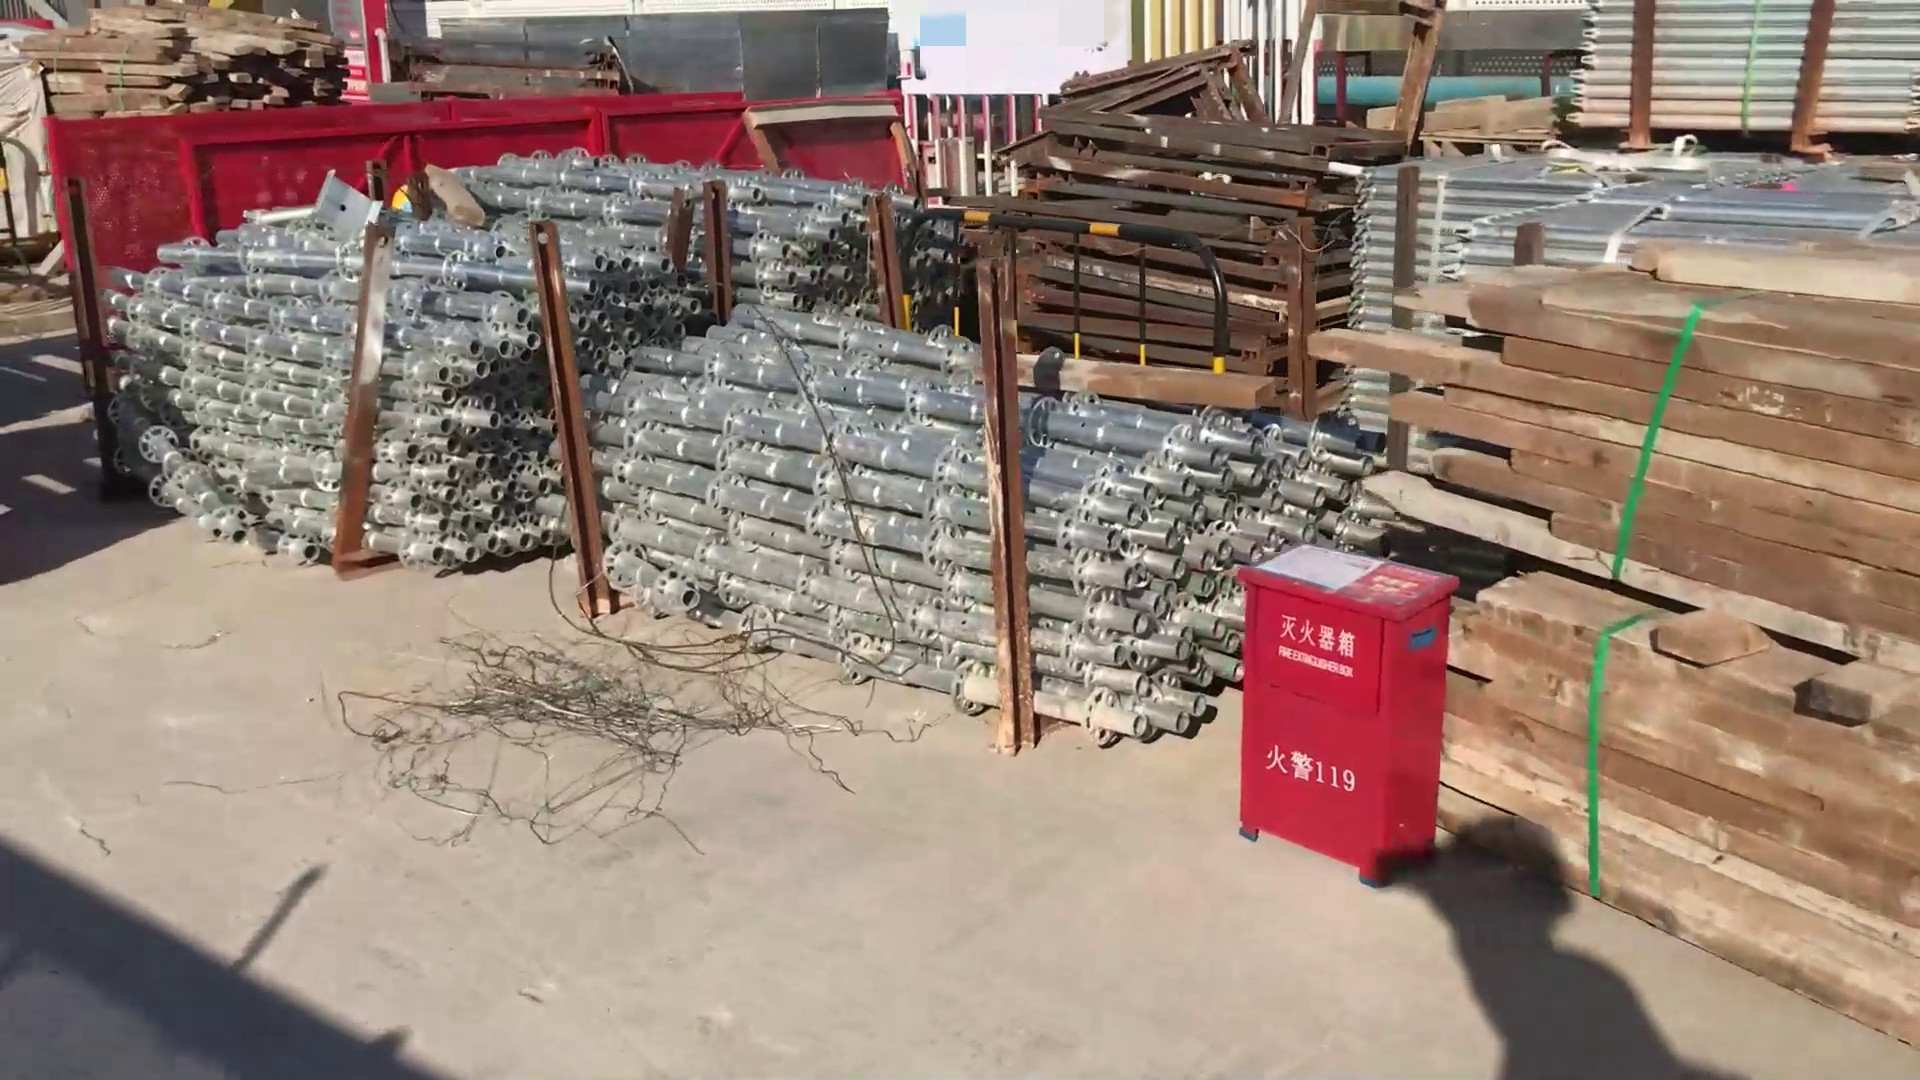fence: (887, 199, 1238, 363)
rebar: (1021, 65, 1352, 363)
scaffold: (655, 309, 1344, 762), (125, 179, 644, 566), (1556, 1, 1920, 152)
wood: (1393, 237, 1920, 1058), (1, 1, 328, 105)
